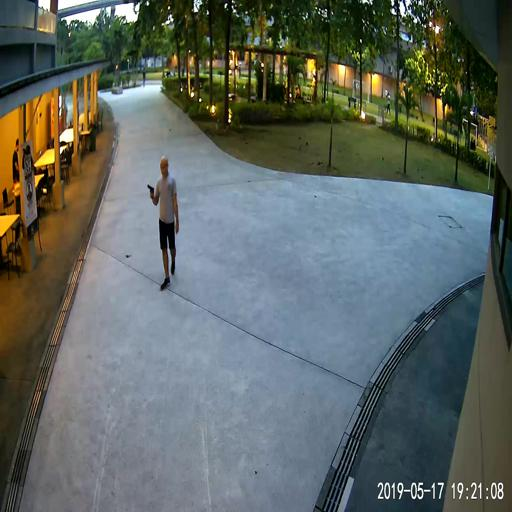pistol: (147, 183, 154, 199)
